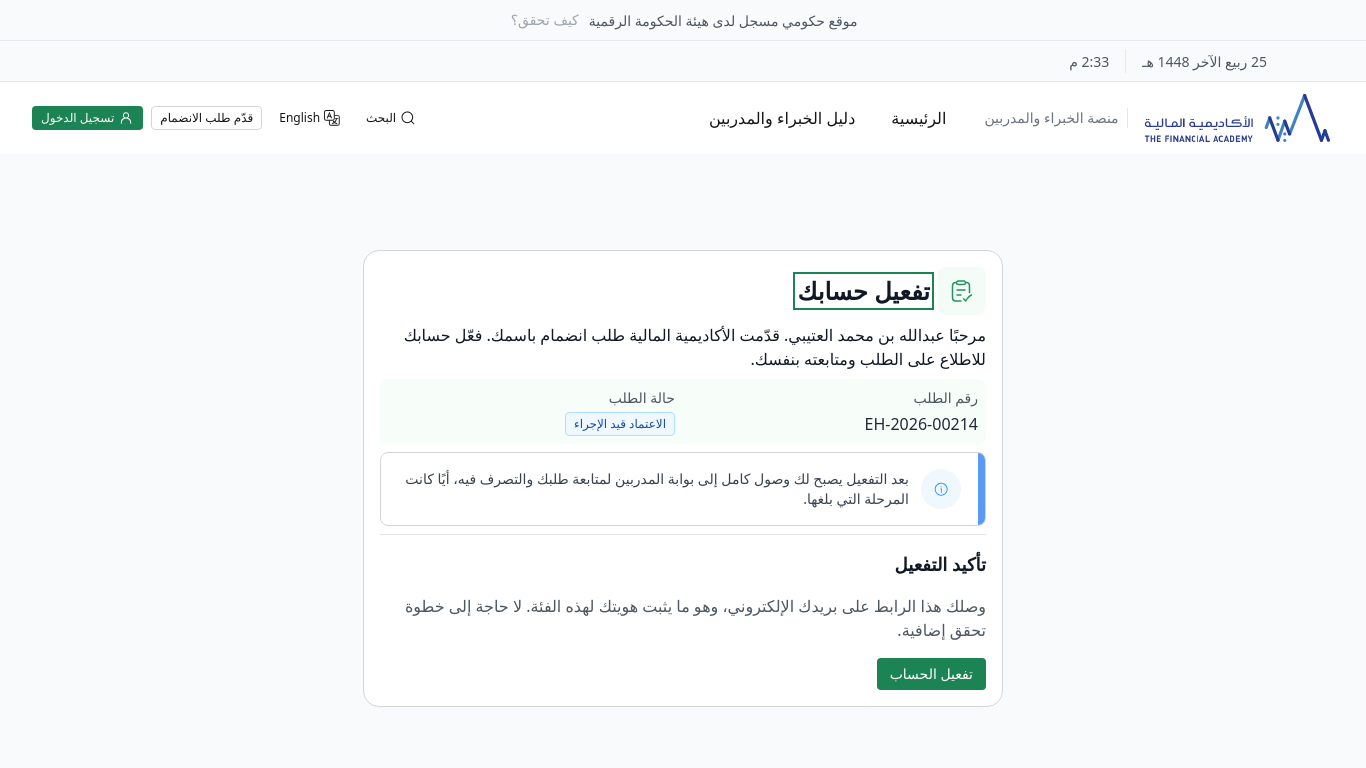
J-02/F4 — Nominee Account Activation & Portal Access › switches language on the activation page
Expected: the heading "تفعيل حسابك" is shown, 798,276 -> 930,306
Click the button "English" at (310, 118), box 270,106 -> 349,130
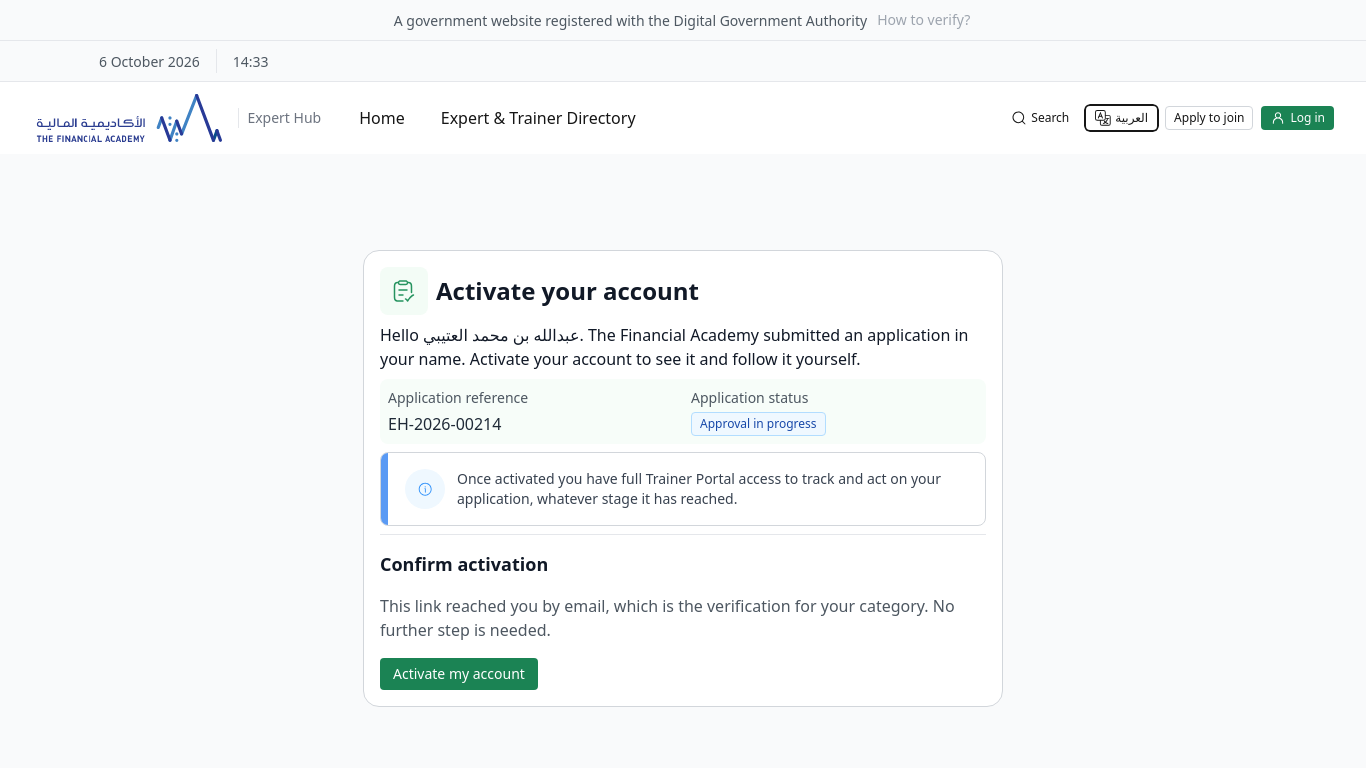
Result: the heading "Activate your account" is shown at 436,276 -> 699,306
